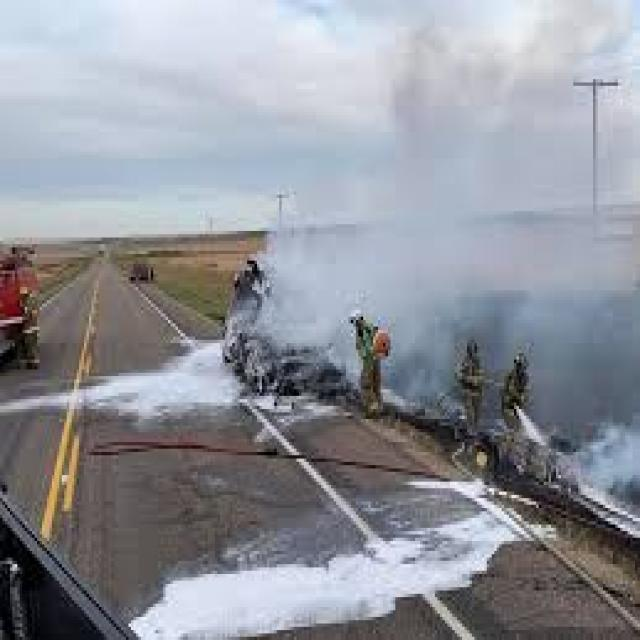smoke: (353, 3, 640, 317), (242, 208, 351, 392), (380, 303, 460, 419)
